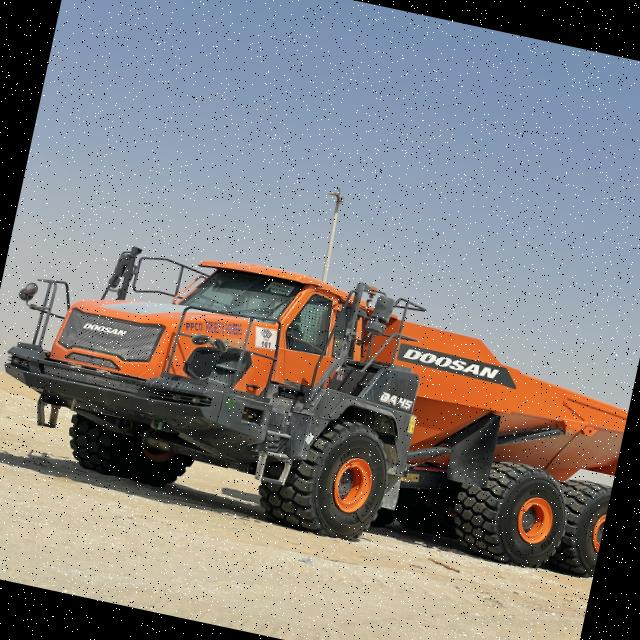Dump Truck: (0, 207, 640, 598)
